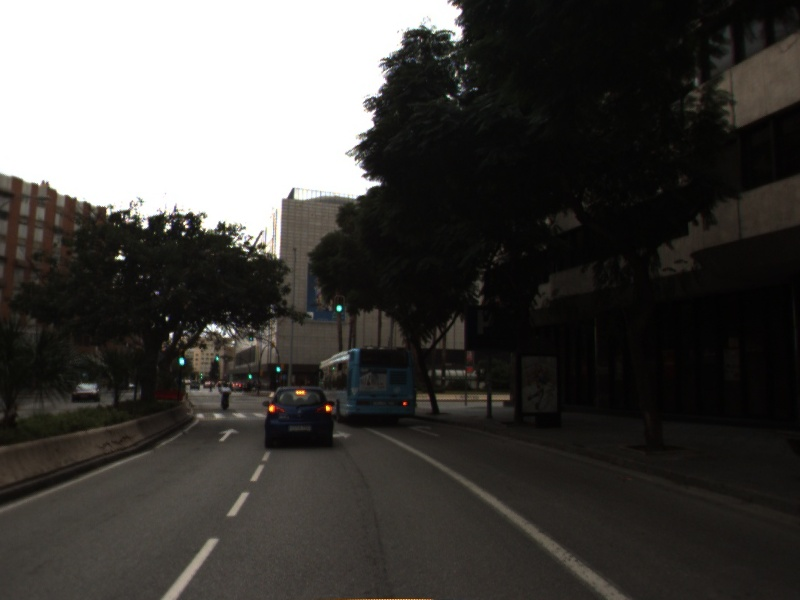RIGHT: (407, 423, 444, 439)
STRAIGHT: (216, 426, 242, 444)
